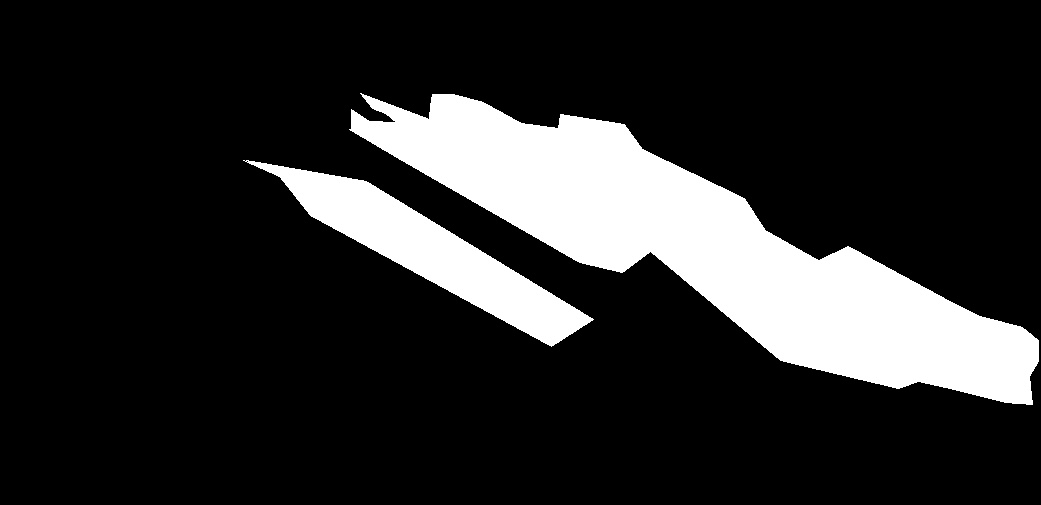fire: (515, 127, 649, 254)
